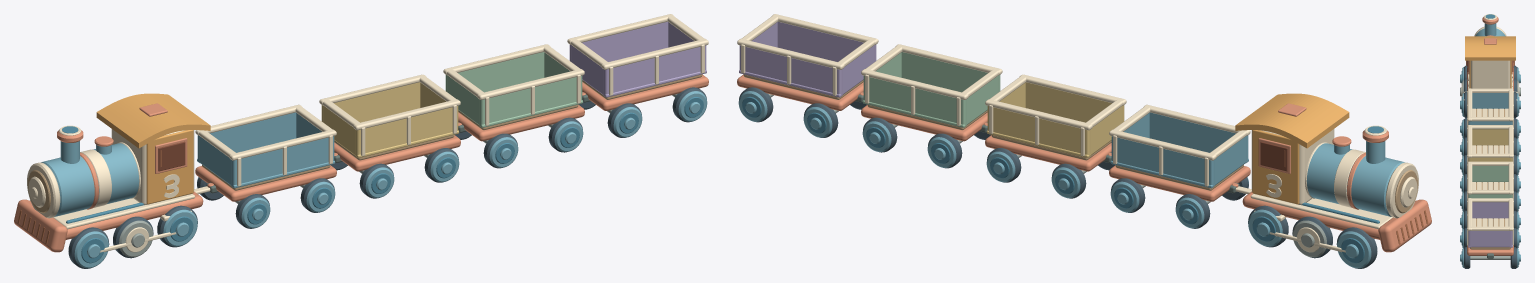
The model's file is runaway_train_v02.glb.
3 renders of one model, left to right at view 1: azimuth 30°, elevation 25°; view 2: azimuth 150°, elevation 25°; view 3: azimuth 270°, elevation 25°, orthographic. The views are drawn at different scales.
Parts seen in each view (by area): view 1: ArchedGoldenCabRoof, BlueBoiler, RoundedCargoSide2, RoundedCargoSide23, RoundedCargoSide24, RoundedCargoSide22, RoundedCargoSide, RoundedCargoSide3, RoundedCargoSide5, RoundedCargoSide4, PeachCabSide2, PeachUnderframe (+35 smaller); view 2: ArchedGoldenCabRoof, BlueBoiler, RoundedCargoSide, RoundedCargoSide5, RoundedCargoSide4, RoundedCargoSide3, RoundedCargoSide2, RoundedCargoSide22, RoundedCargoSide24, RoundedCargoSide23, PeachCabSide, PeachUnderframe (+35 smaller); view 3: ArchedGoldenCabRoof, CreamCab, RoundedCargoEnd24, RoundedCargoEnd3, RoundedCargoEnd5, RoundedCargoEnd4, RoundedCargoEnd, PeachUnderframe4, RoundedCargoEnd22, RoundedCargoEnd23, CreamTopEndRail24, CreamTopEndRail4 (+53 smaller).
Part boxes in pixels (x1,y1,x2,y2): ArchedGoldenCabRoof: [96, 93, 210, 148]; BlueBoiler: [41, 143, 139, 216]; RoundedCargoSide2: [231, 136, 334, 185]; RoundedCargoSide23: [479, 75, 582, 125]; RoundedCargoSide24: [603, 45, 706, 94]; RoundedCargoSide22: [355, 106, 458, 155]; RoundedCargoSide: [197, 112, 296, 160]; RoundedCargoSide3: [321, 82, 420, 122]; RoundedCargoSide5: [569, 21, 668, 61]; RoundedCargoSide4: [445, 52, 544, 92]; PeachCabSide2: [146, 130, 193, 204]; PeachUnderframe: [195, 165, 336, 201]; ArchedGoldenCabRoof: [1235, 93, 1349, 148]; BlueBoiler: [1306, 143, 1404, 216]; RoundedCargoSide: [1111, 136, 1214, 185]; RoundedCargoSide5: [739, 45, 842, 94]; RoundedCargoSide4: [863, 75, 966, 124]; RoundedCargoSide3: [987, 106, 1090, 155]; RoundedCargoSide2: [1149, 112, 1248, 160]; RoundedCargoSide22: [1025, 82, 1124, 122]; RoundedCargoSide24: [777, 21, 876, 61]; RoundedCargoSide23: [901, 52, 1000, 92]; PeachCabSide: [1252, 130, 1299, 204]; PeachUnderframe: [1109, 165, 1250, 201]; ArchedGoldenCabRoof: [1465, 36, 1515, 60]; CreamCab: [1470, 60, 1510, 88]; RoundedCargoEnd24: [1470, 231, 1510, 247]; RoundedCargoEnd3: [1472, 129, 1508, 145]; RoundedCargoEnd5: [1472, 202, 1508, 218]; RoundedCargoEnd4: [1472, 166, 1508, 182]; RoundedCargoEnd: [1472, 93, 1508, 108]; PeachUnderframe4: [1467, 245, 1513, 255]; RoundedCargoEnd22: [1470, 157, 1510, 161]; RoundedCargoEnd23: [1470, 194, 1510, 198]; CreamTopEndRail24: [1469, 226, 1511, 230]; CreamTopEndRail4: [1470, 161, 1509, 165].
Bounding box in the file's own units: 19.01 × 3.39 × 2.5.
